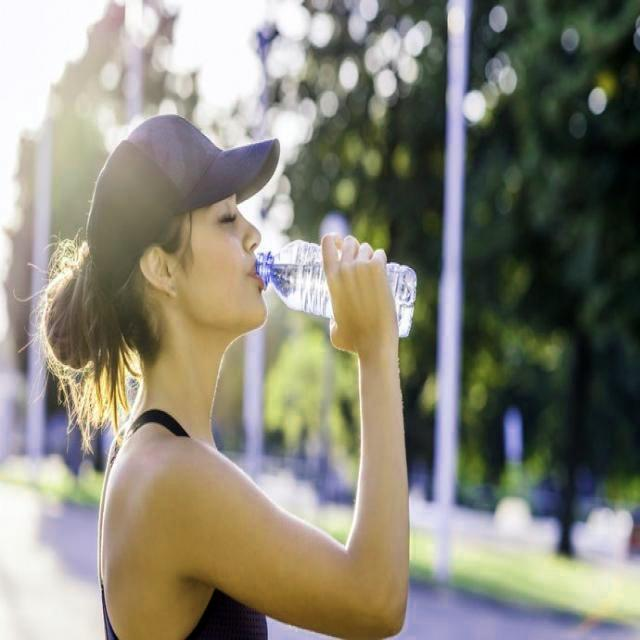bottle: (255, 240, 417, 338)
